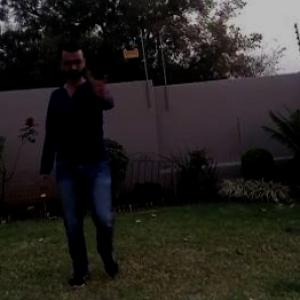takeoff-hand: (82, 66, 117, 101)
